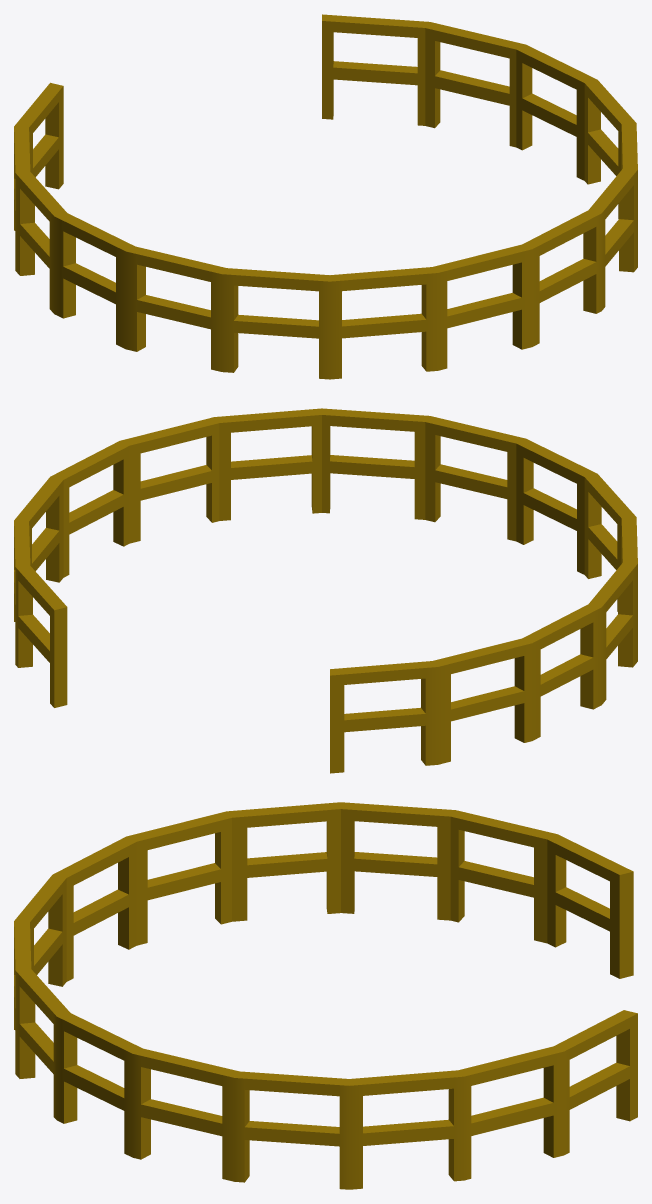
The model's file is RanchVersion2.fbx.
3 views of the same model, one above another, from view 1: azimuth 30°, elevation 25°; view 2: azimuth 150°, elevation 25°; view 3: azimuth 270°, elevation 25° (orthographic). The views are drawn at different scales.
Parts seen in each view (by area): view 1: RanchVersion2; view 2: RanchVersion2; view 3: RanchVersion2.
Part boxes in pixels (bbox=[...]): RanchVersion2: bbox=[14, 14, 637, 379]; RanchVersion2: bbox=[14, 408, 637, 773]; RanchVersion2: bbox=[14, 802, 637, 1189].
Size of the model in its own units: 20.97 by 3.59 by 19.5.
